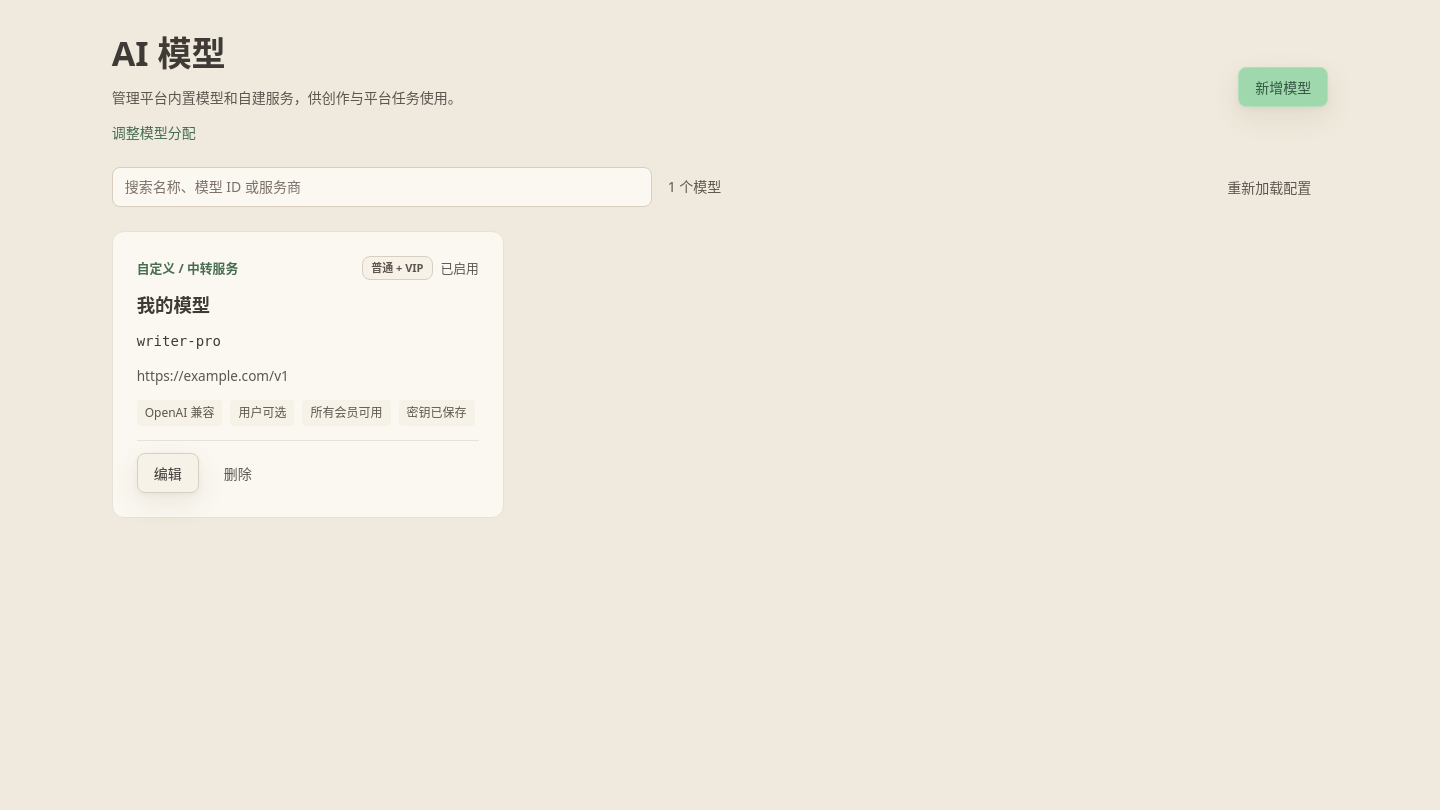
edits one model without resending its key or changing other platform settings
Click the button with aria-label "编辑 我的模型" at (168, 473), box x1=137 y1=453 x2=199 y2=493
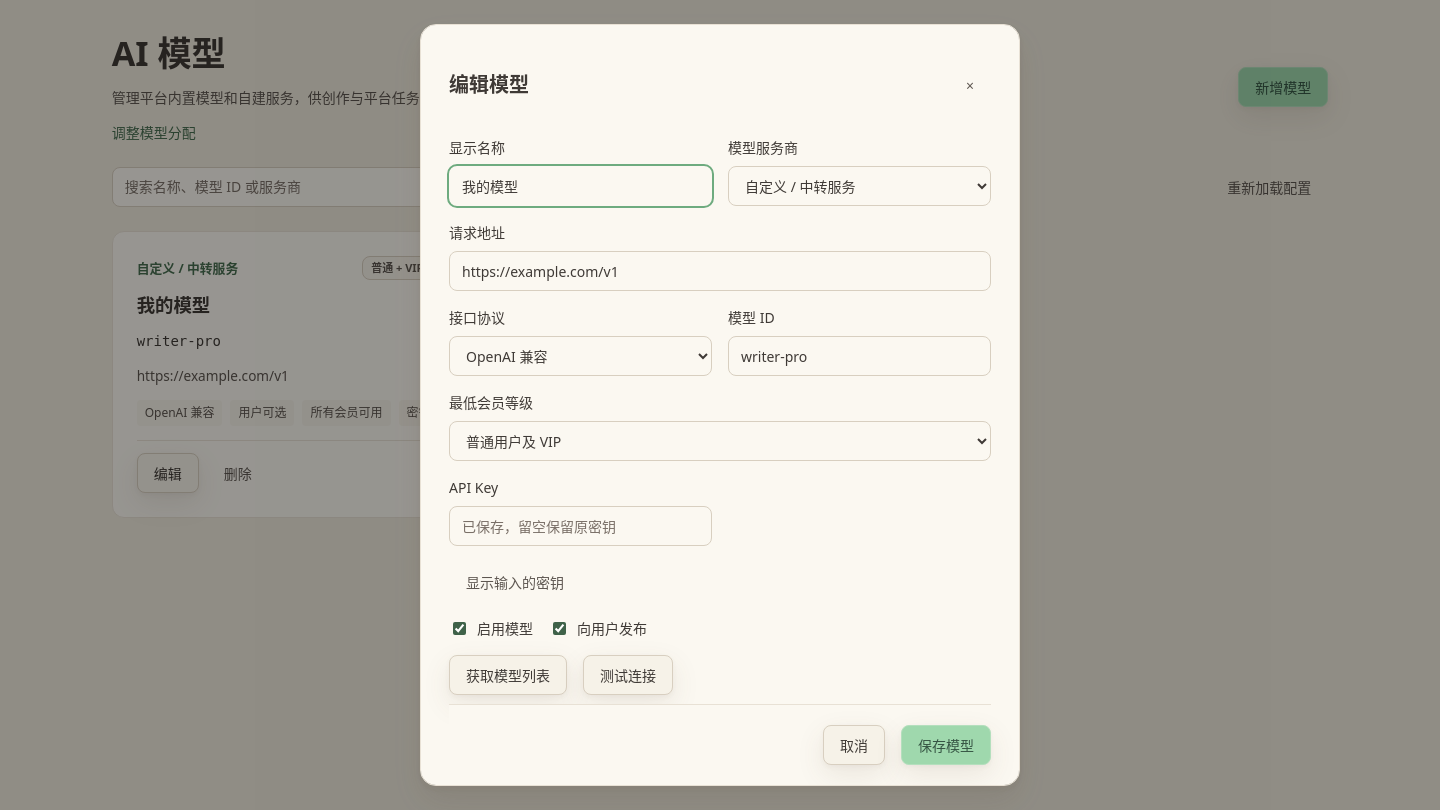
Replace the text in the field labelled "显示名称" with "新名称" at (580, 186), box x1=449 y1=166 x2=712 y2=206
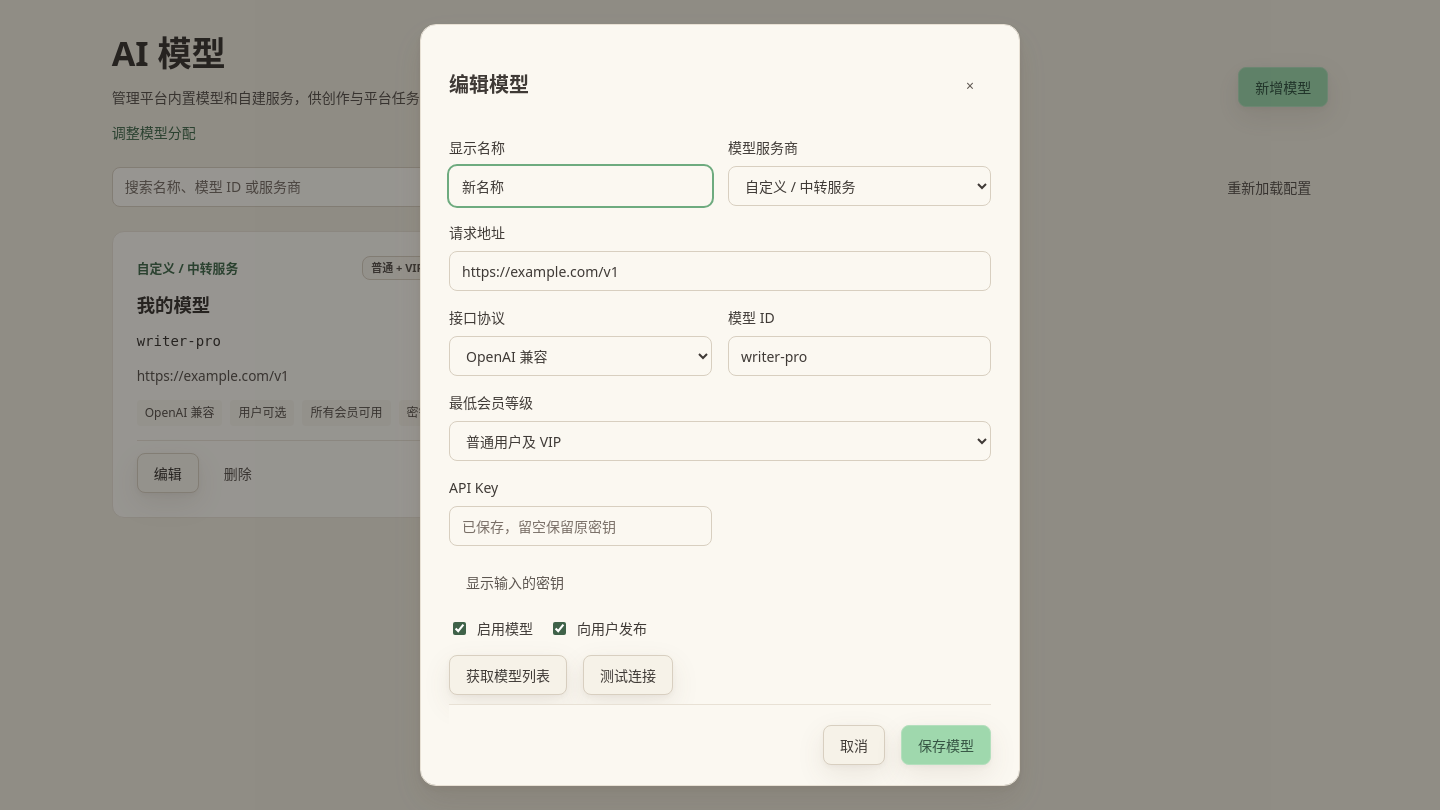
Click the button "保存模型" at (946, 745), box x1=901 y1=725 x2=991 y2=765
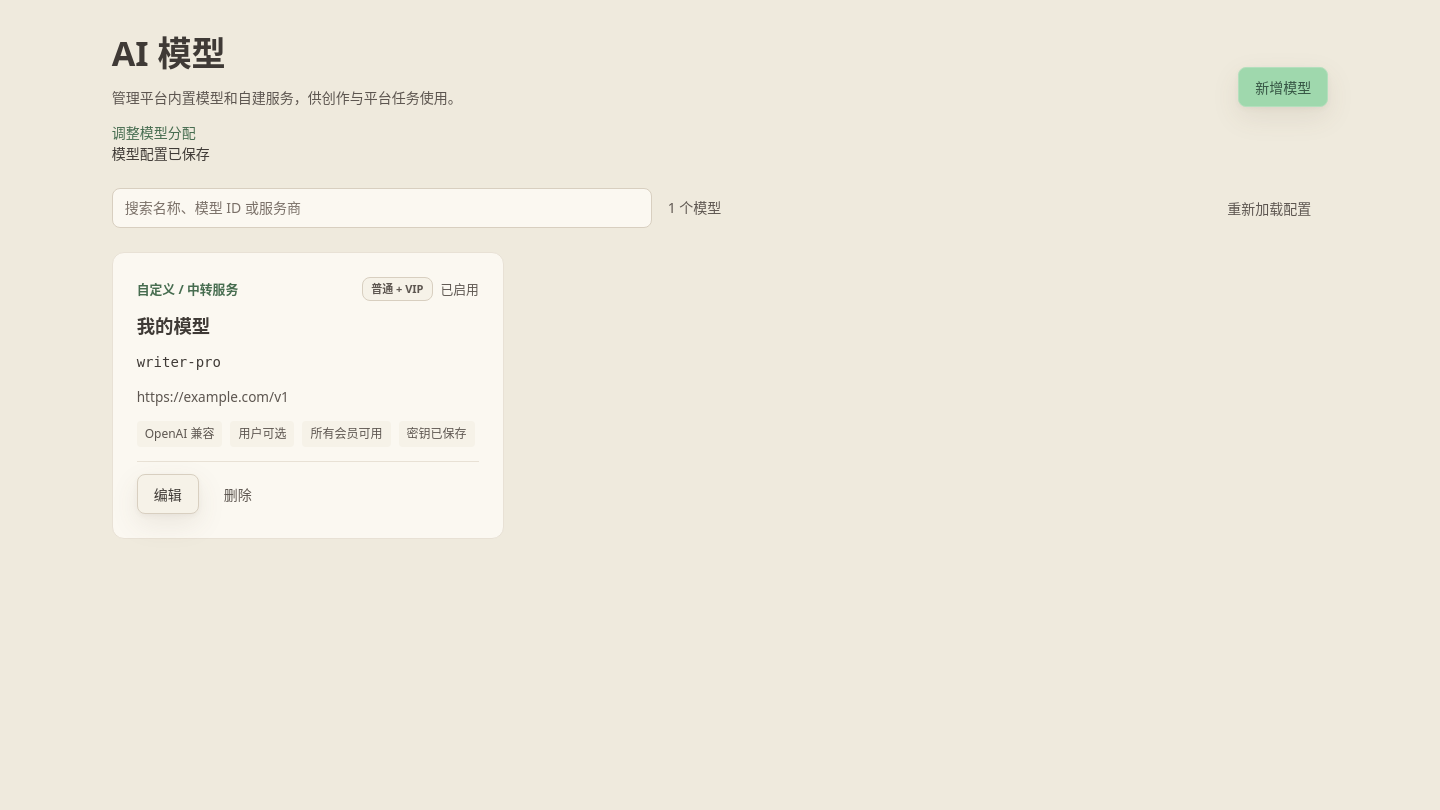
Expected: the dialog is gone
